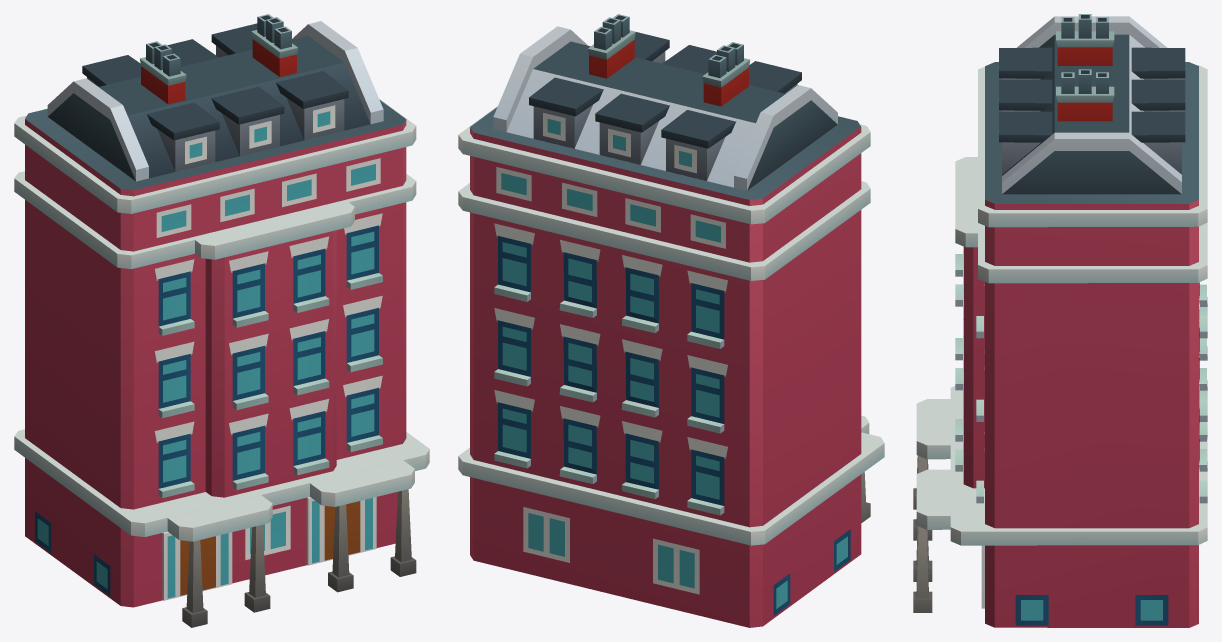
The model's file is Building_cartoon_10.fbx.
The picture shows the model from 3 angles, left to right: view 1: azimuth 30°, elevation 25°; view 2: azimuth 150°, elevation 25°; view 3: azimuth 270°, elevation 25°; orthographic projection. The views are drawn at different scales.
Visible parts, largest first — view 1: Building_cartoon_10; view 2: Building_cartoon_10; view 3: Building_cartoon_10.
Boxes of the visible parts, x1,y1,x2,y2 form: Building_cartoon_10: (14, 14, 429, 627); Building_cartoon_10: (458, 14, 884, 627); Building_cartoon_10: (913, 14, 1207, 627).
Bounding box in the file's own units: 1189 × 1917 × 998.
